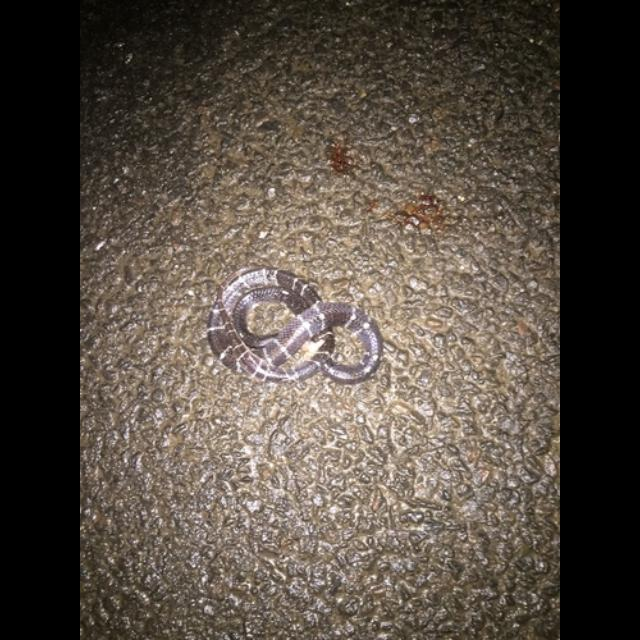snake: (202, 263, 384, 392)
